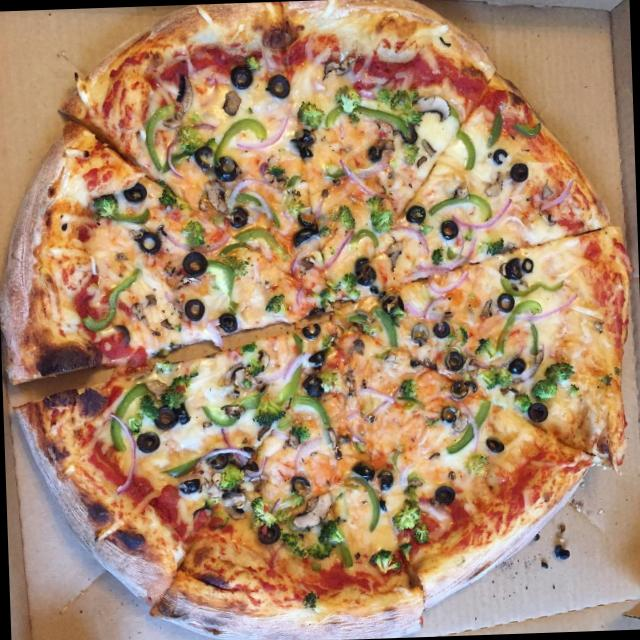black_olives: (492, 251, 540, 285), (302, 320, 336, 366), (352, 456, 391, 494), (128, 224, 162, 262), (348, 253, 380, 291), (179, 247, 211, 280), (152, 398, 184, 431), (292, 122, 319, 158), (507, 256, 540, 284), (212, 150, 242, 180), (281, 468, 311, 498), (264, 71, 291, 103), (134, 428, 166, 455), (430, 478, 458, 508), (228, 64, 260, 90), (520, 398, 546, 428), (256, 518, 282, 548), (292, 221, 320, 247), (433, 214, 458, 242), (175, 473, 203, 498), (442, 348, 468, 374), (178, 296, 208, 318), (223, 205, 249, 230), (123, 180, 150, 204), (428, 317, 454, 341), (304, 368, 326, 396), (509, 160, 534, 184), (483, 432, 506, 457), (192, 144, 212, 172), (404, 203, 426, 227), (216, 306, 234, 332)
mushrooms: (221, 349, 268, 391), (294, 494, 338, 530), (131, 294, 165, 340), (222, 489, 256, 524), (168, 74, 195, 115), (323, 50, 352, 84), (197, 179, 225, 211), (516, 349, 544, 373)
peppers: (74, 265, 144, 334), (328, 97, 404, 142), (282, 370, 332, 438), (103, 382, 153, 447), (210, 111, 270, 161), (441, 398, 490, 458), (490, 294, 544, 346), (345, 468, 386, 536), (142, 100, 180, 168), (423, 192, 498, 223), (202, 393, 254, 437), (498, 268, 569, 300), (229, 187, 290, 224), (194, 249, 240, 298), (235, 221, 284, 255), (370, 303, 400, 352), (448, 124, 477, 168), (112, 208, 160, 232), (168, 450, 205, 478), (348, 225, 379, 249)
pizza: (0, 0, 630, 640)
